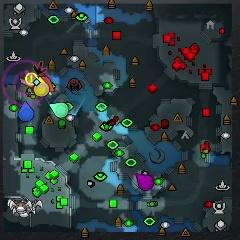Other: (25, 71, 37, 86)
p1: (20, 101, 34, 122)
p2: (49, 103, 68, 118)
p3: (136, 174, 153, 190)
p4: (34, 77, 48, 96)
p5: (37, 73, 54, 91)
x1: (20, 69, 34, 87)
x5Clone: (33, 60, 46, 75)
